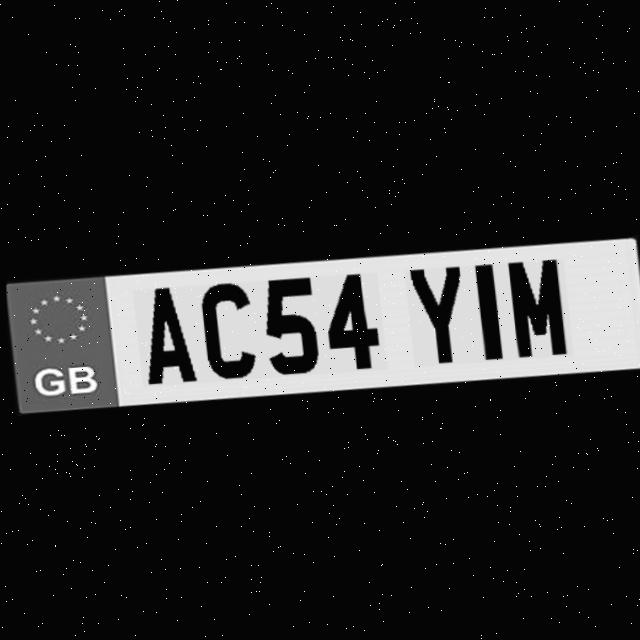license-plates: (6, 237, 640, 412)
